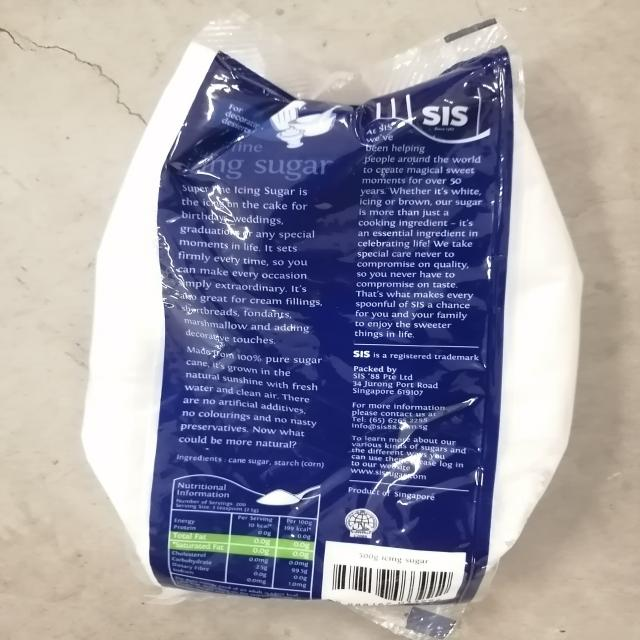object_name: (151, 42, 497, 591)
